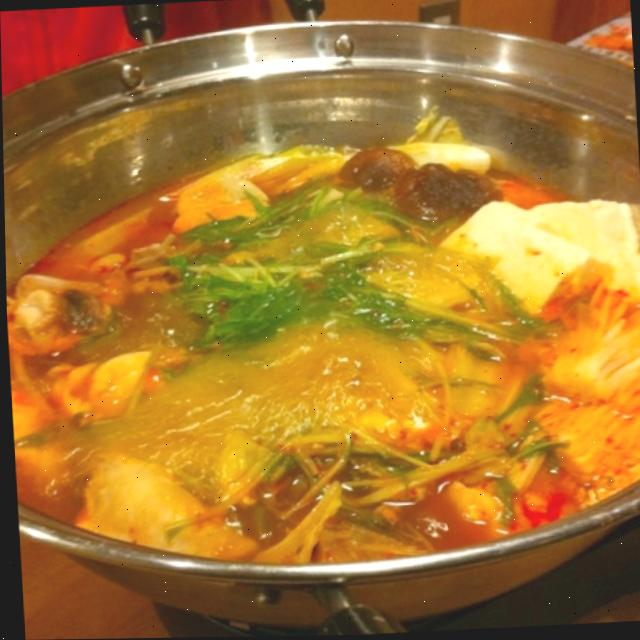汤锅炖物: (25, 25, 640, 612)
